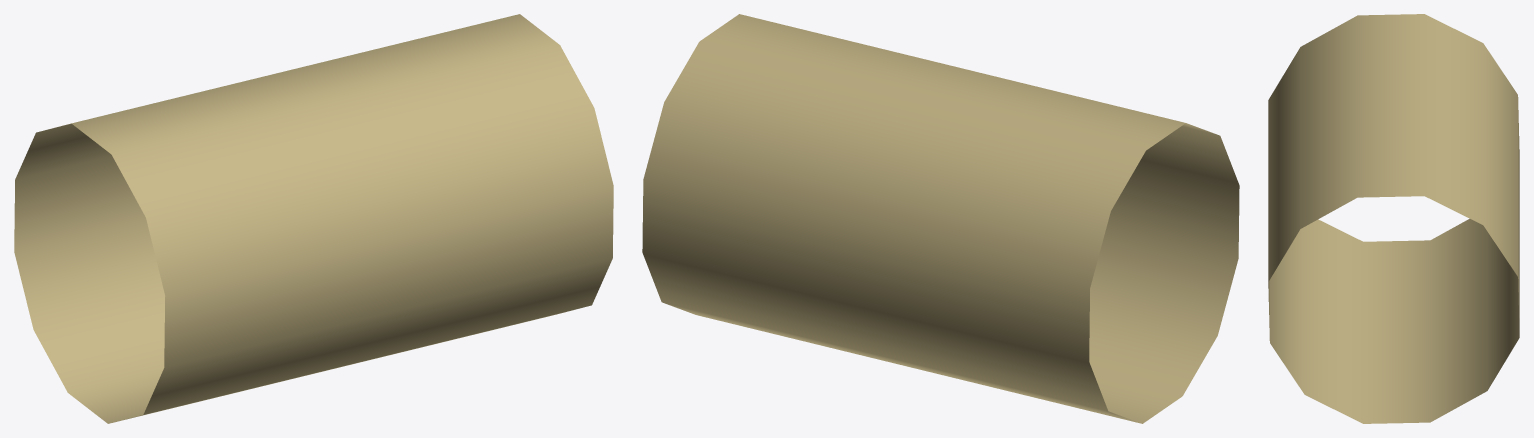
Rendered from LeverSleeve.fbx.
3 renders of one model, left to right at view 1: azimuth 30°, elevation 25°; view 2: azimuth 150°, elevation 25°; view 3: azimuth 270°, elevation 25°, orthographic. The views are drawn at different scales.
Parts seen in each view (by area): view 1: LeverTurn1; view 2: LeverTurn1; view 3: LeverTurn1.
Boxes of the visible parts, x1,y1,x2,y2 form: LeverTurn1: (14, 14, 613, 423); LeverTurn1: (642, 14, 1239, 423); LeverTurn1: (1268, 14, 1519, 423).
Bounding box in the file's own units: 0.2384 × 0.139 × 0.139.
Materials: 1 (1 with a texture image).
